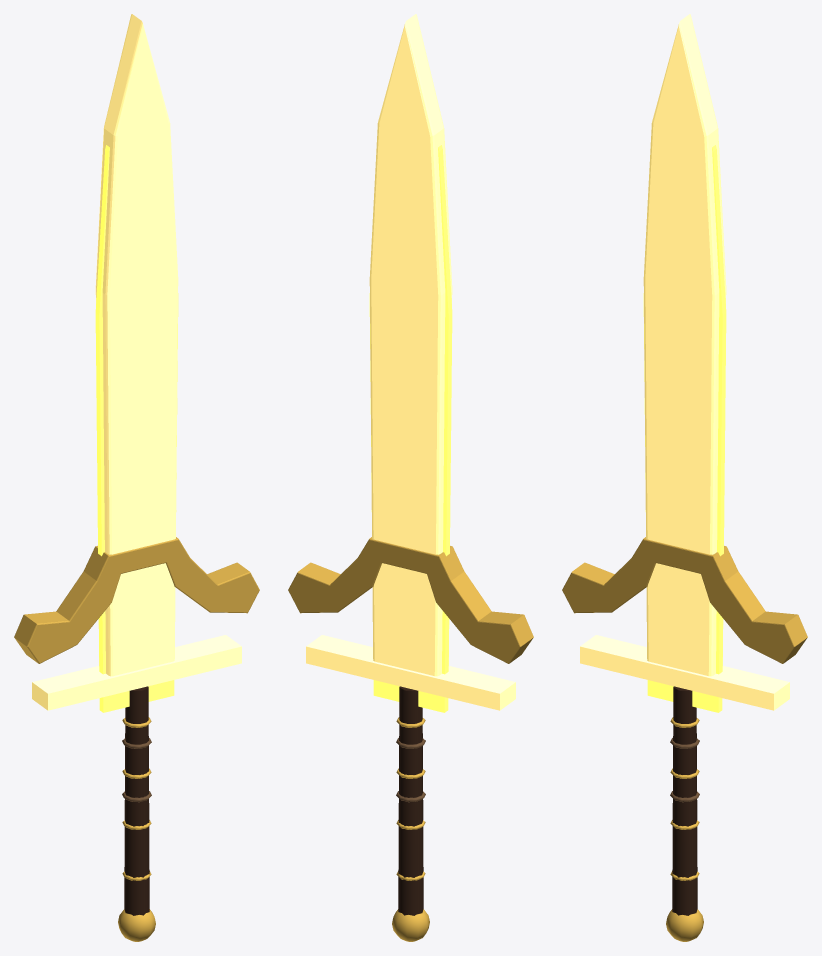
The model's file is greatsword_f2_23eddb57.glb.
3 views of the same model, side by side, from view 1: azimuth 30°, elevation 25°; view 2: azimuth 150°, elevation 25°; view 3: azimuth 330°, elevation 25° (orthographic).
Parts seen in each view (by area): view 1: m3_ow80_, m4_ow80_, m2_ow80_, m0_gm110_; view 2: m3_ow80_, m4_ow80_, m2_ow80_, m0_gm110_; view 3: m3_ow80_, m4_ow80_, m2_ow80_, m0_gm110_.
Part boxes in pixels (left/top/right/bottom): m3_ow80_: left=32, top=14, right=241, bottom=710; m4_ow80_: left=14, top=537, right=259, bottom=941; m2_ow80_: left=124, top=686, right=149, bottom=915; m0_gm110_: left=95, top=145, right=178, bottom=712; m3_ow80_: left=306, top=14, right=515, bottom=710; m4_ow80_: left=288, top=537, right=533, bottom=941; m2_ow80_: left=398, top=686, right=423, bottom=915; m0_gm110_: left=369, top=145, right=452, bottom=712; m3_ow80_: left=580, top=14, right=789, bottom=710; m4_ow80_: left=562, top=537, right=807, bottom=941; m2_ow80_: left=672, top=686, right=697, bottom=915; m0_gm110_: left=643, top=145, right=726, bottom=712.
Bounding box in the file's own units: 1.01 × 3.82 × 0.137.
